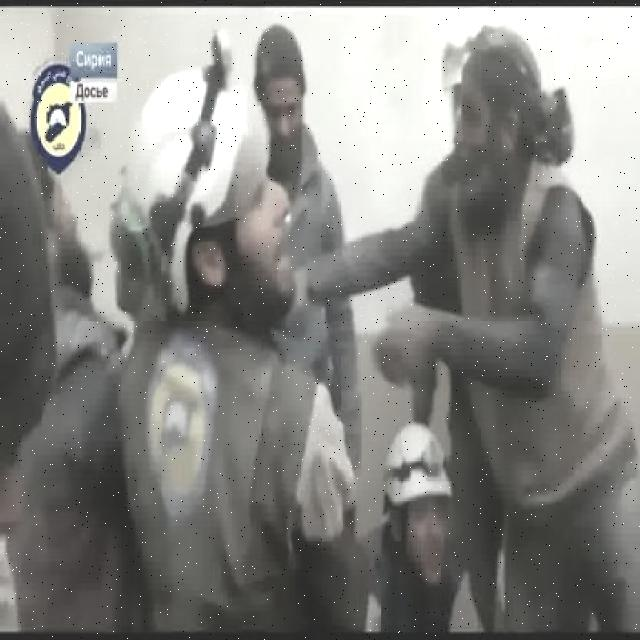Helmet: (125, 56, 242, 313), (378, 418, 454, 520)
